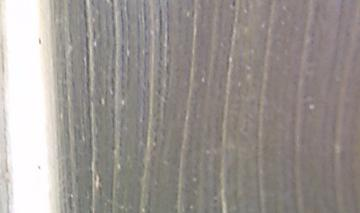tarspot: (35, 35, 43, 46), (229, 1, 238, 9), (110, 144, 116, 153), (96, 96, 102, 105), (89, 1, 95, 8), (35, 163, 40, 169), (107, 1, 115, 4)
